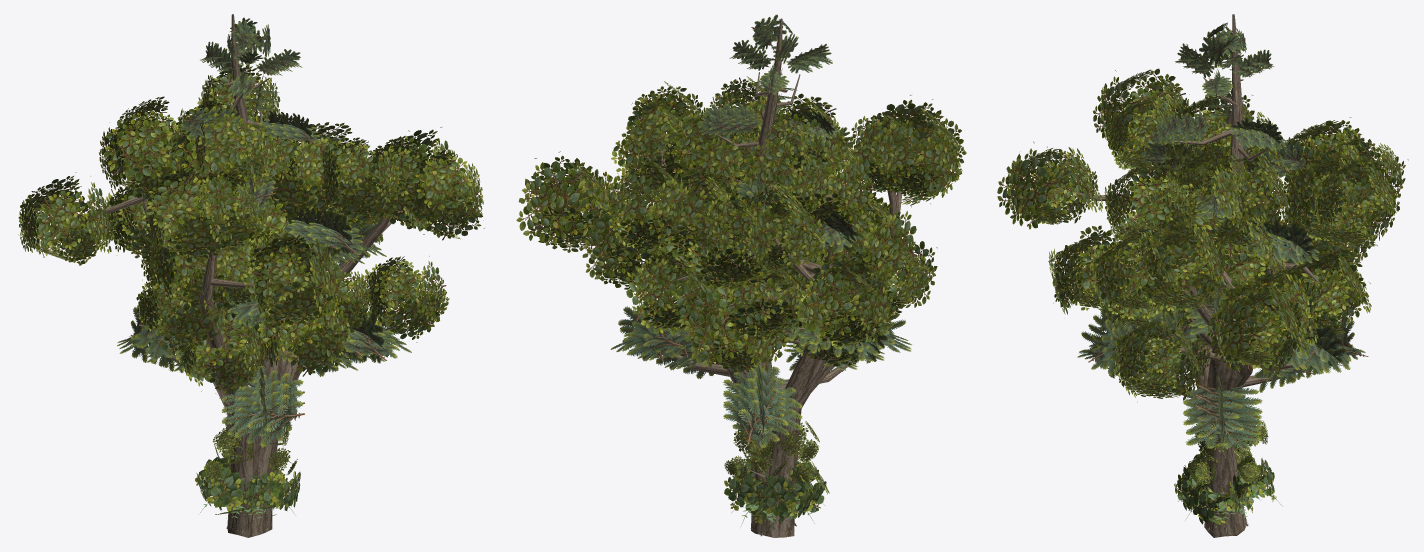
File: flora-standard-r16.glb
3 views of the same model, side by side, from view 1: azimuth 30°, elevation 25°; view 2: azimuth 150°, elevation 25°; view 3: azimuth 270°, elevation 25° (orthographic).
Visible parts, largest first — view 1: alderTall_volumetric_leaf_clusters, alder_volumetric_leaf_clusters, pine_volumetric_leaf_clusters, alderTall_rooted_branch_skeleton, hazelShrub_botanical_foliage, pine_rooted_branch_skeleton, alder_rooted_branch_skeleton, alderSapling_botanical_foliage; view 2: alderTall_volumetric_leaf_clusters, alder_volumetric_leaf_clusters, pine_volumetric_leaf_clusters, alderTall_rooted_branch_skeleton, hazelShrub_botanical_foliage, pine_rooted_branch_skeleton, alderSapling_botanical_foliage, alder_rooted_branch_skeleton; view 3: alder_volumetric_leaf_clusters, alderTall_volumetric_leaf_clusters, pine_volumetric_leaf_clusters, alder_rooted_branch_skeleton, hazelShrub_botanical_foliage, pine_rooted_branch_skeleton, alderSapling_botanical_foliage, alderTall_rooted_branch_skeleton.
Part boxes in pixels (x1,y1,x2,y2): alderTall_volumetric_leaf_clusters: (18,96,401,353); alder_volumetric_leaf_clusters: (102,64,484,398); pine_volumetric_leaf_clusters: (117,17,411,447); alderTall_rooted_branch_skeleton: (92,148,325,537); hazelShrub_botanical_foliage: (195,452,300,516); pine_rooted_branch_skeleton: (148,14,352,535); alder_rooted_branch_skeleton: (172,137,415,535); alderSapling_botanical_foliage: (204,414,297,484); alderTall_volumetric_leaf_clusters: (582,76,966,372); alder_volumetric_leaf_clusters: (516,81,916,366); pine_volumetric_leaf_clusters: (610,14,911,449); alderTall_rooted_branch_skeleton: (657,122,902,537); hazelShrub_botanical_foliage: (724,458,829,523); pine_rooted_branch_skeleton: (668,18,858,535); alderSapling_botanical_foliage: (724,421,819,484); alder_rooted_branch_skeleton: (588,144,796,536); alder_volumetric_leaf_clusters: (1048,146,1399,402); alderTall_volumetric_leaf_clusters: (997,68,1408,360); pine_volumetric_leaf_clusters: (1077,22,1368,457); alder_rooted_branch_skeleton: (1157,146,1332,537); hazelShrub_botanical_foliage: (1174,450,1274,524); pine_rooted_branch_skeleton: (1163,14,1319,537); alderSapling_botanical_foliage: (1187,420,1268,484); alderTall_rooted_branch_skeleton: (1069,109,1307,532).
Bounding box in the file's own units: 7.48 × 9.22 × 6.77.
Materials: 4 (3 with a texture image).
